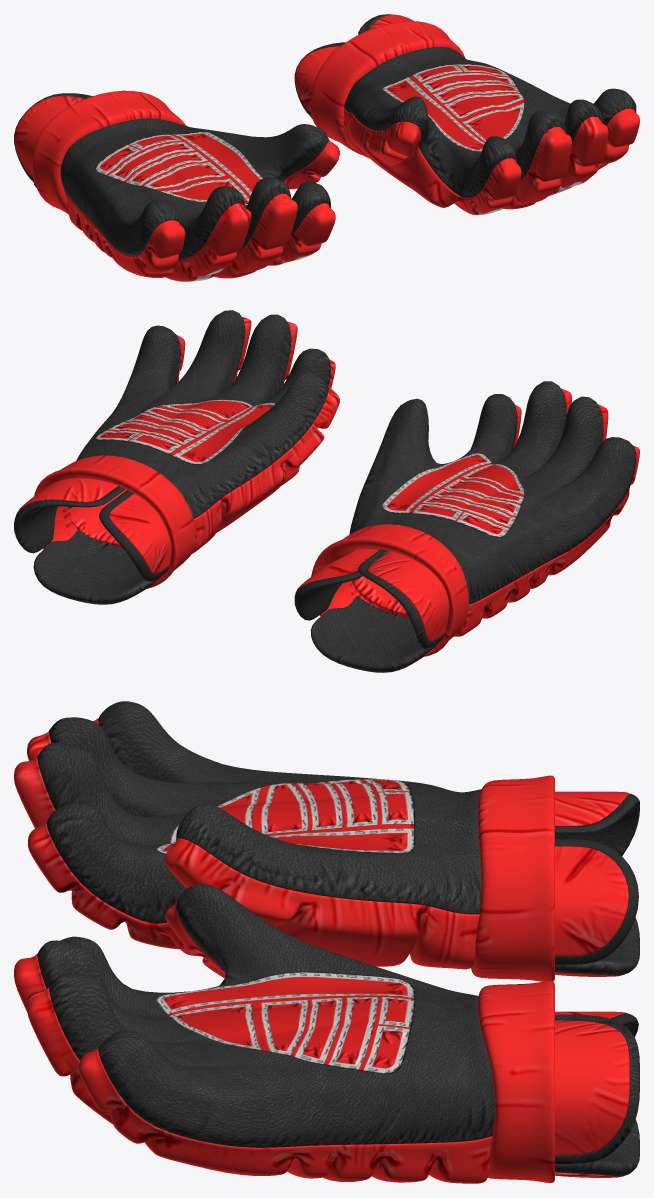
The model's file is protective_gear_gloves.obj.
3 renders of one model, top to bottom at view 1: azimuth 30°, elevation 25°; view 2: azimuth 150°, elevation 25°; view 3: azimuth 270°, elevation 25°, orthographic. The views are drawn at different scales.
Visible parts, largest first — view 1: protective_gear_skin_left, protective_gear_skin_right, protective_gear_right, protective_gear_left; view 2: protective_gear_skin_left, protective_gear_skin_right, protective_gear_right, protective_gear_left; view 3: protective_gear_skin_right, protective_gear_skin_left, protective_gear_left, protective_gear_right.
Boxes of the visible parts, box(x1,y1,x2,y2) form: protective_gear_skin_left: box(14, 93, 330, 259); protective_gear_skin_right: box(294, 14, 636, 198); protective_gear_right: box(295, 14, 639, 215); protective_gear_left: box(14, 90, 339, 281); protective_gear_skin_left: box(294, 381, 636, 672); protective_gear_skin_right: box(14, 310, 330, 604); protective_gear_right: box(14, 317, 339, 604); protective_gear_left: box(295, 388, 639, 672); protective_gear_skin_right: box(37, 883, 639, 1176); protective_gear_skin_left: box(37, 701, 639, 975); protective_gear_left: box(14, 718, 629, 981); protective_gear_right: box(14, 902, 629, 1183).
Size of the model in its own units: 34.91 by 10.09 by 26.01.
2 materials, 2 textured.
